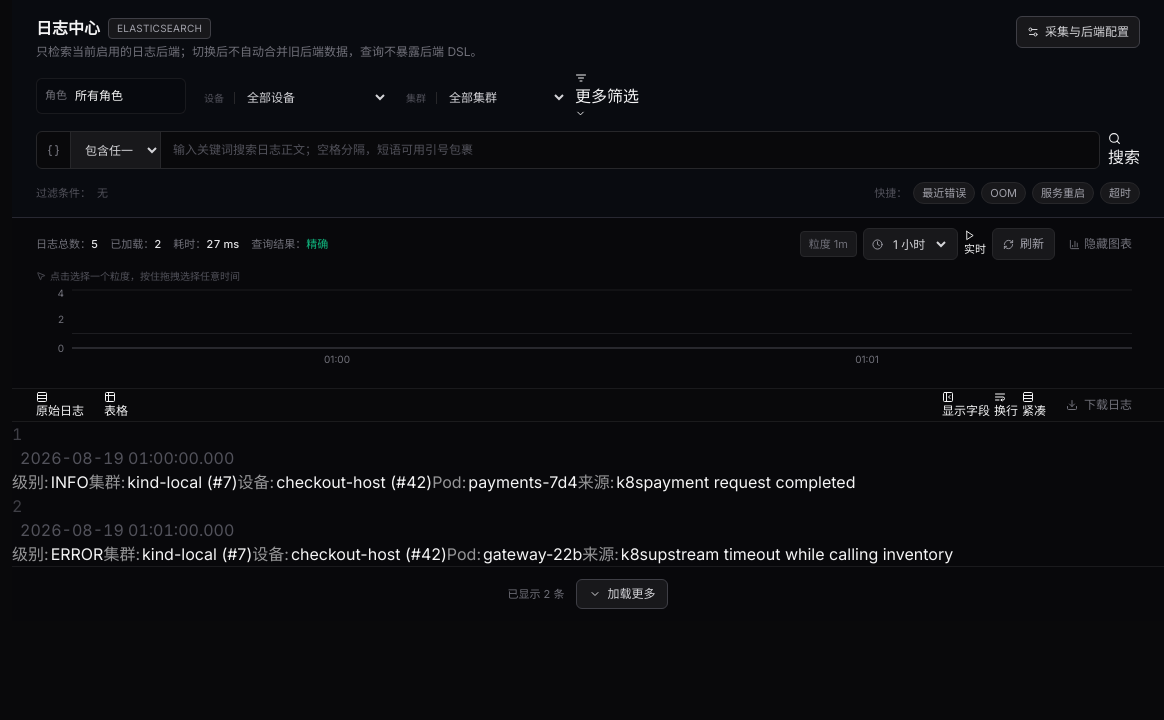
Test case: LogsPage › reuses the first-page time window when loading the next cursor page
This screenshot has width=1164, height=720.
Expected: the text "payment request completed" is shown, [643, 472, 855, 492]
Click the button "加载更多".
click(622, 594)  # box [576, 579, 668, 609]
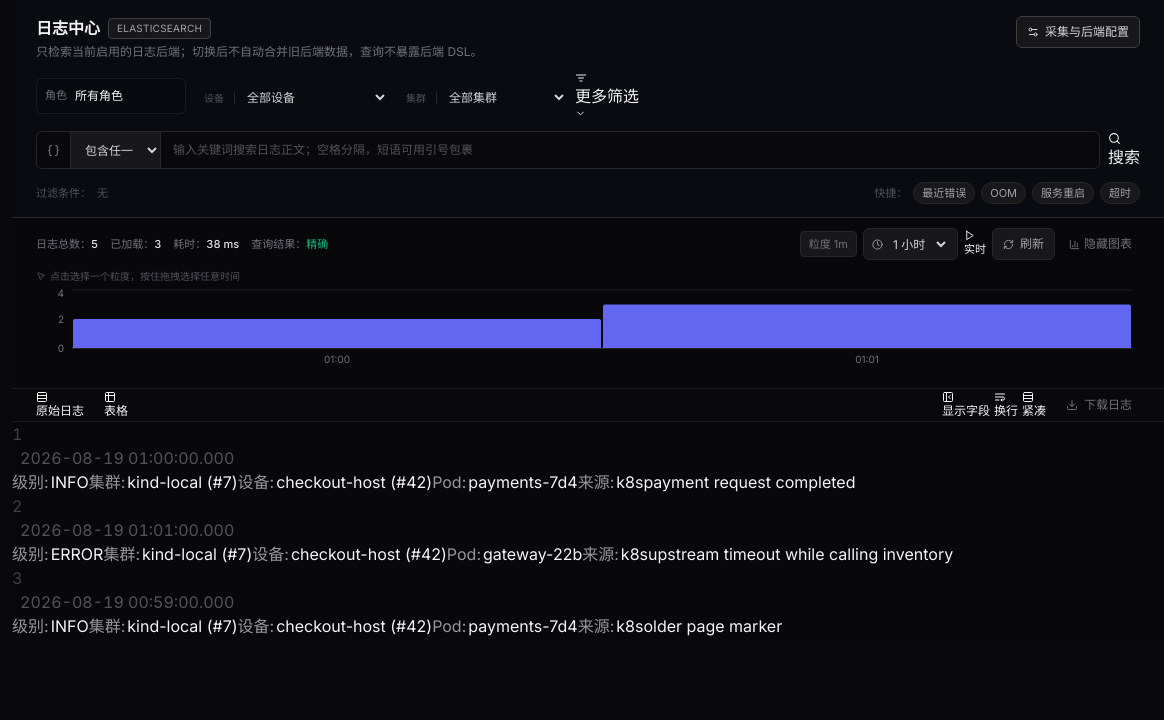
Expected: the text "older page marker" is shown, [643, 616, 782, 636]
